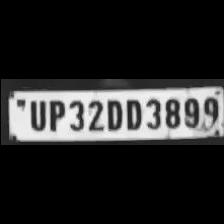2: (84, 98, 104, 132)
3: (65, 96, 84, 132), (142, 96, 162, 130)
8: (162, 96, 180, 130)
9: (200, 94, 220, 128), (182, 95, 200, 129)
D: (122, 97, 142, 131), (104, 97, 122, 131)
P: (44, 98, 64, 132)
U: (24, 97, 46, 130)
